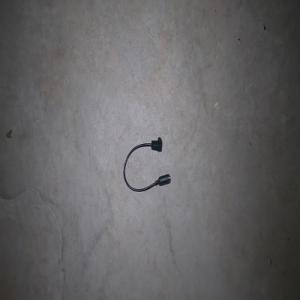Wire: (123, 137, 170, 191)
